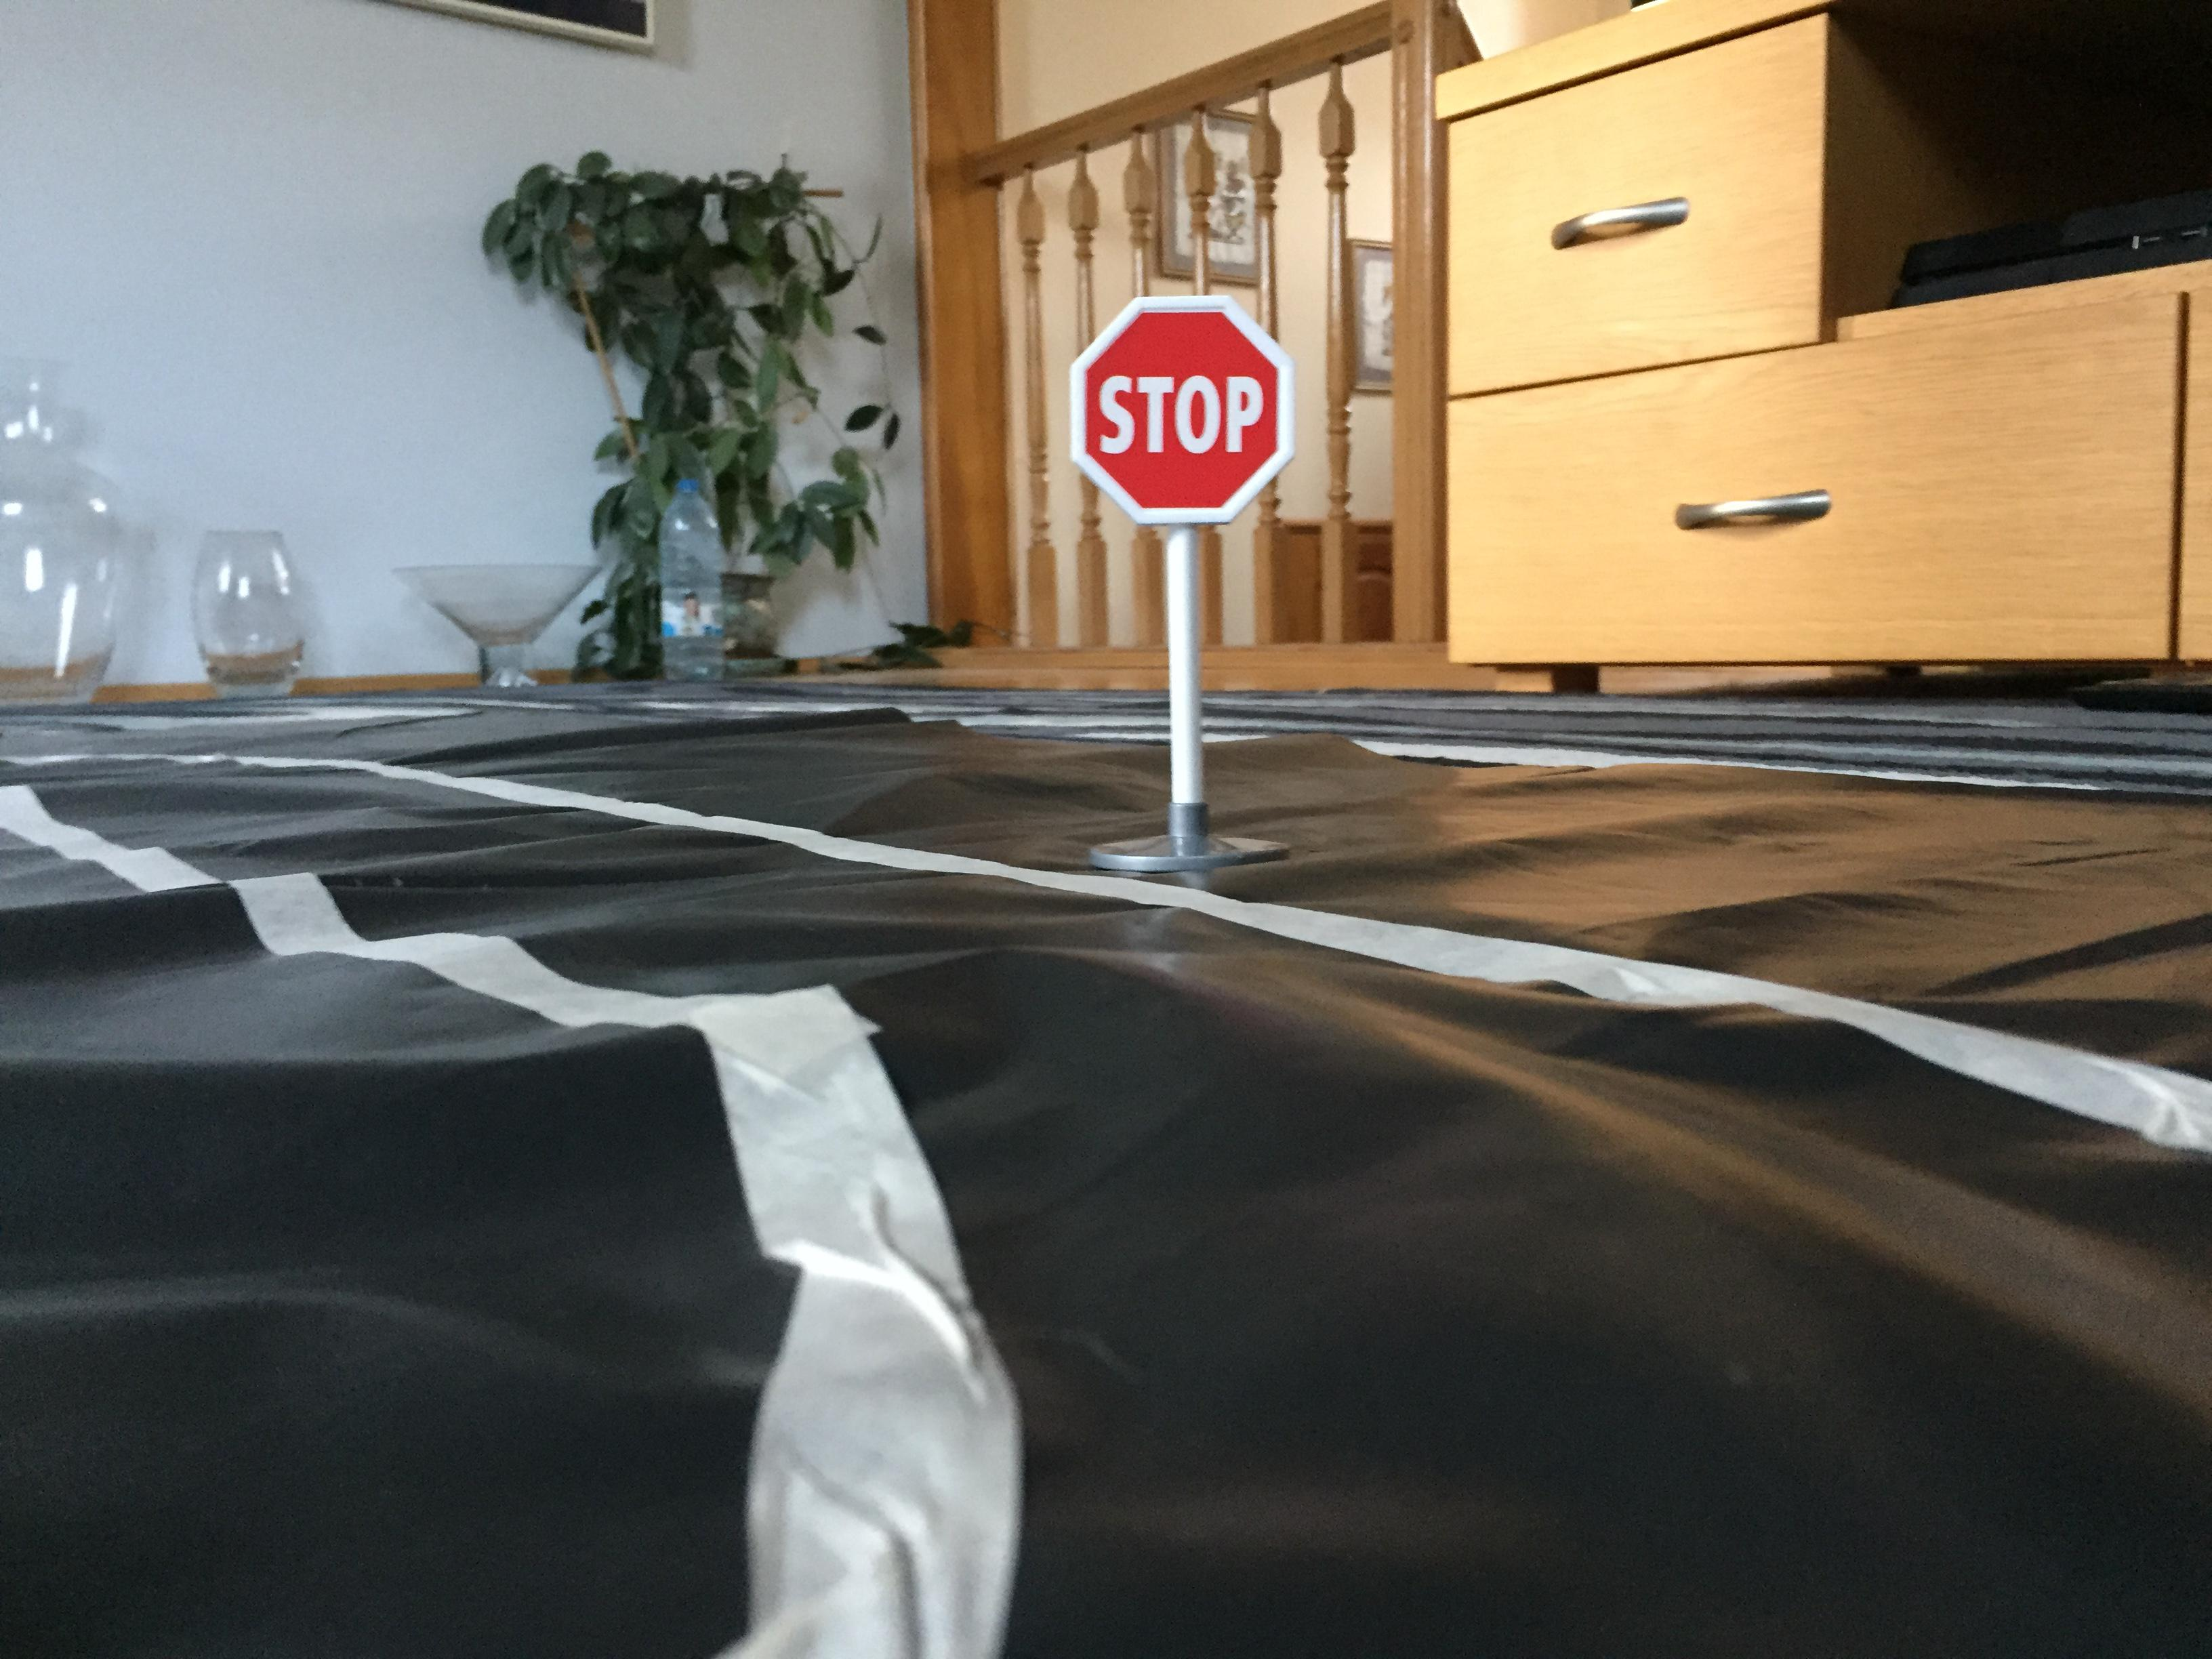stop: (1061, 288, 1308, 533)
